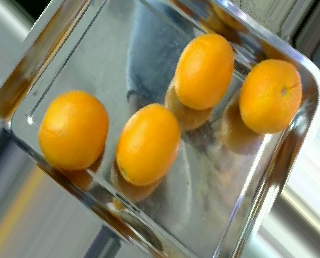Orange: (37, 89, 108, 170), (116, 102, 179, 186), (238, 58, 303, 134), (174, 33, 234, 109)
